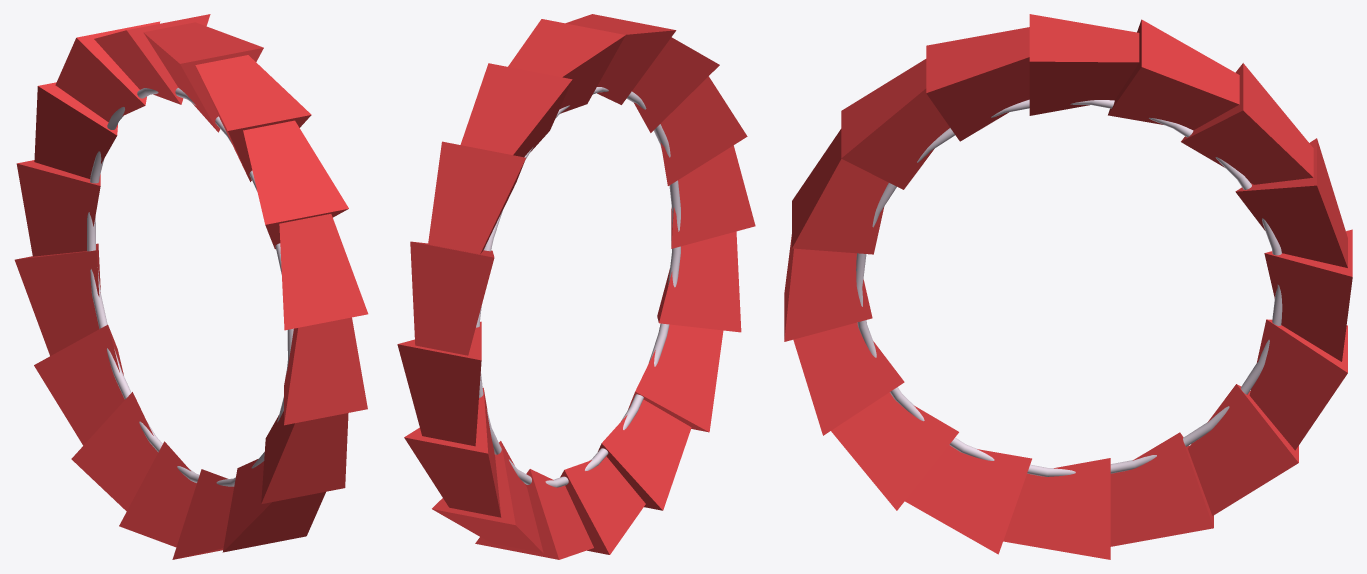
File: Portal.fbx
3 renders of one model, left to right at view 1: azimuth 30°, elevation 25°; view 2: azimuth 150°, elevation 25°; view 3: azimuth 270°, elevation 25°, orthographic. The views are drawn at different scales.
Parts seen in each view (by area): view 1: Cone.014; view 2: Cone.014; view 3: Cone.014.
Boxes of the visible parts, x1,y1,x2,y2 form: Cone.014: (14, 14, 368, 559); Cone.014: (397, 14, 755, 559); Cone.014: (784, 14, 1352, 559).
Bounding box in the file's own units: 1558 × 1560 × 355.
